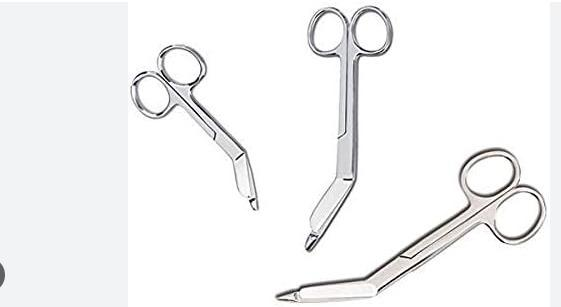Bandage Sciccors: (273, 143, 547, 307), (295, 4, 397, 254), (128, 43, 264, 212)
